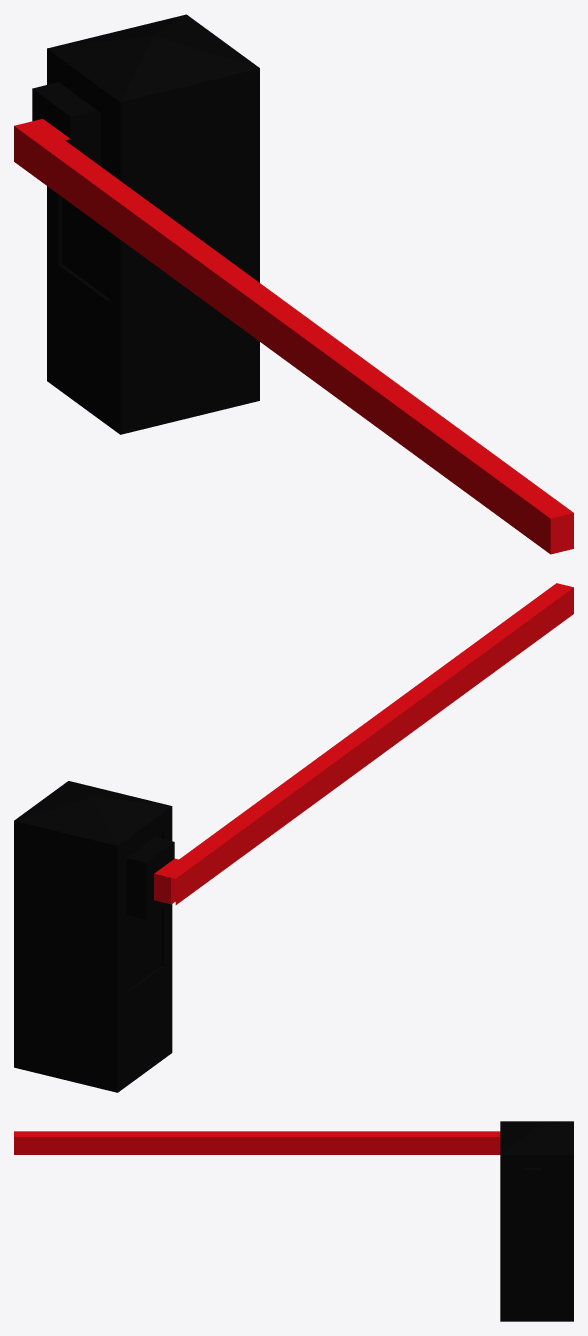
File: ooiipp.fbx
The picture shows the model from 3 angles, top to bottom: view 1: azimuth 30°, elevation 25°; view 2: azimuth 150°, elevation 25°; view 3: azimuth 270°, elevation 25°; orthographic projection. The views are drawn at different scales.
Visible parts, largest first — view 1: Cube.028; view 2: Cube.028; view 3: Cube.028.
Part boxes in pixels (x1=…): Cube.028: x1=14, y1=14, x2=573, y2=554; Cube.028: x1=14, y1=583, x2=573, y2=1092; Cube.028: x1=14, y1=1121, x2=573, y2=1321.
Bounding box in the file's own units: 79.25 × 130 × 372.
